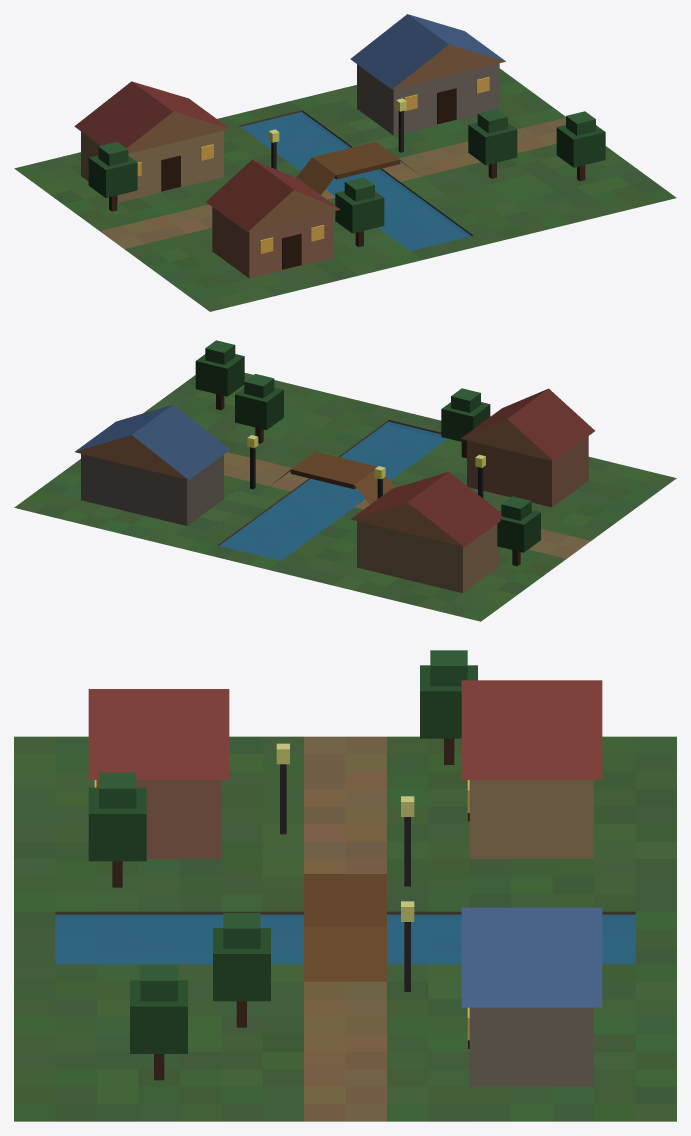
3 renders of one model, top to bottom at view 1: azimuth 30°, elevation 25°; view 2: azimuth 150°, elevation 25°; view 3: azimuth 270°, elevation 25°, orthographic. The views are drawn at different scales.
Visible parts, largest first — view 1: scenery; view 2: scenery; view 3: scenery.
Boxes of the visible parts, x1=… form: scenery: x1=14, y1=14, x2=676, y2=311; scenery: x1=14, y1=340, x2=676, y2=621; scenery: x1=14, y1=650, x2=676, y2=1121.
Bounding box in the file's own units: 22 × 3.85 × 16.
